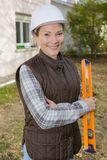helmet: (32, 6, 67, 31)
